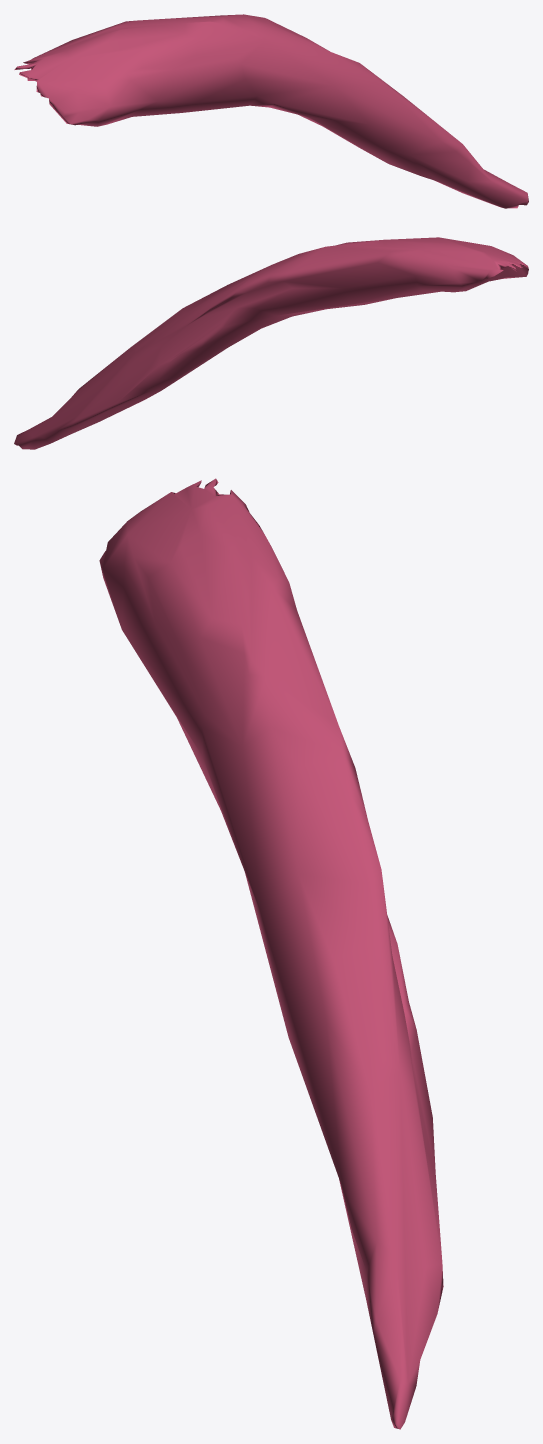
The picture shows the model from 3 angles, top to bottom: view 1: azimuth 30°, elevation 25°; view 2: azimuth 150°, elevation 25°; view 3: azimuth 270°, elevation 25°; orthographic projection. The views are drawn at different scales.
Parts seen in each view (by area): view 1: 左侧上孖肌; view 2: 左侧上孖肌; view 3: 左侧上孖肌.
Part boxes in pixels (bbox=[...]): 左侧上孖肌: bbox=[14, 14, 528, 208]; 左侧上孖肌: bbox=[14, 237, 528, 449]; 左侧上孖肌: bbox=[99, 478, 443, 1429].
Bounding box in the file's own units: 0.123 × 0.0674 × 0.04.
